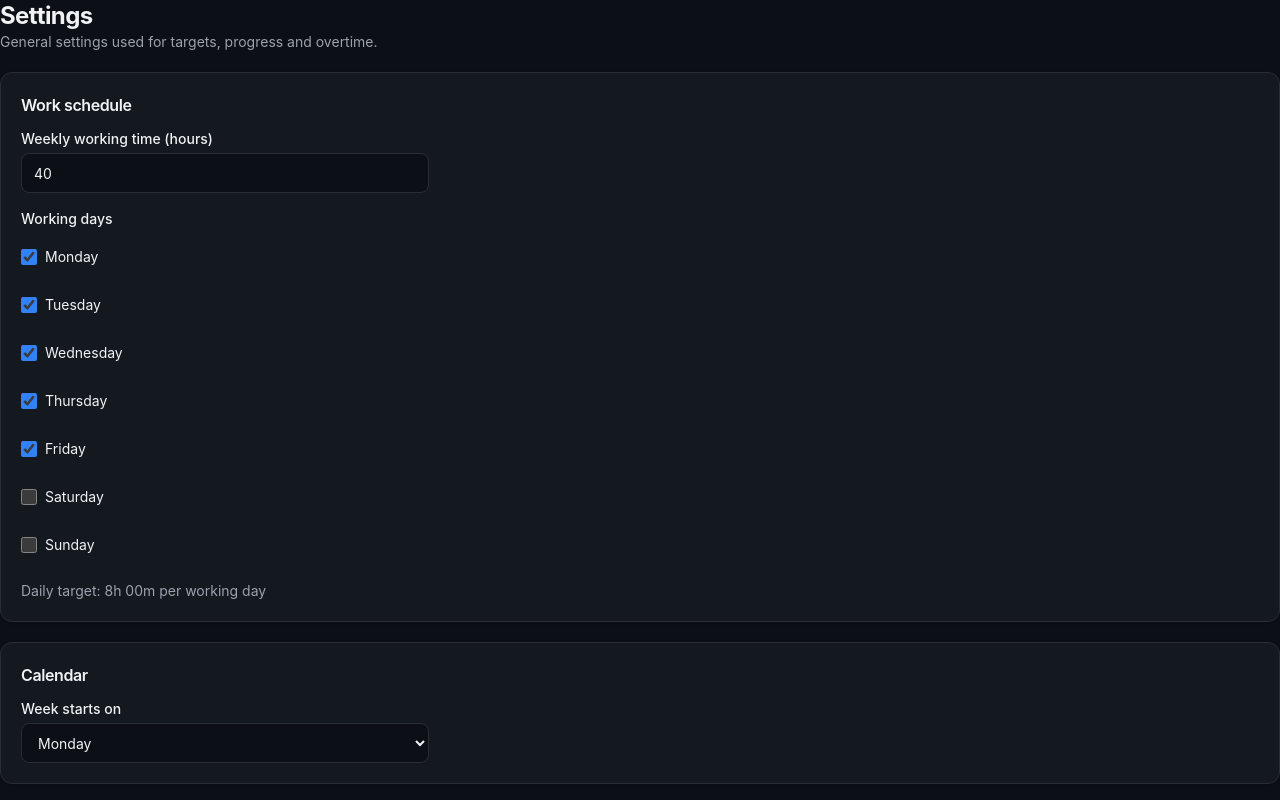
Scenario: SettingsPage › shows error when all working days are unchecked
Expected: the heading "Work schedule" is shown, [21,93,132,117]
Click the checkbox labelled "Monday" at (29, 257), box [21,249,37,265]
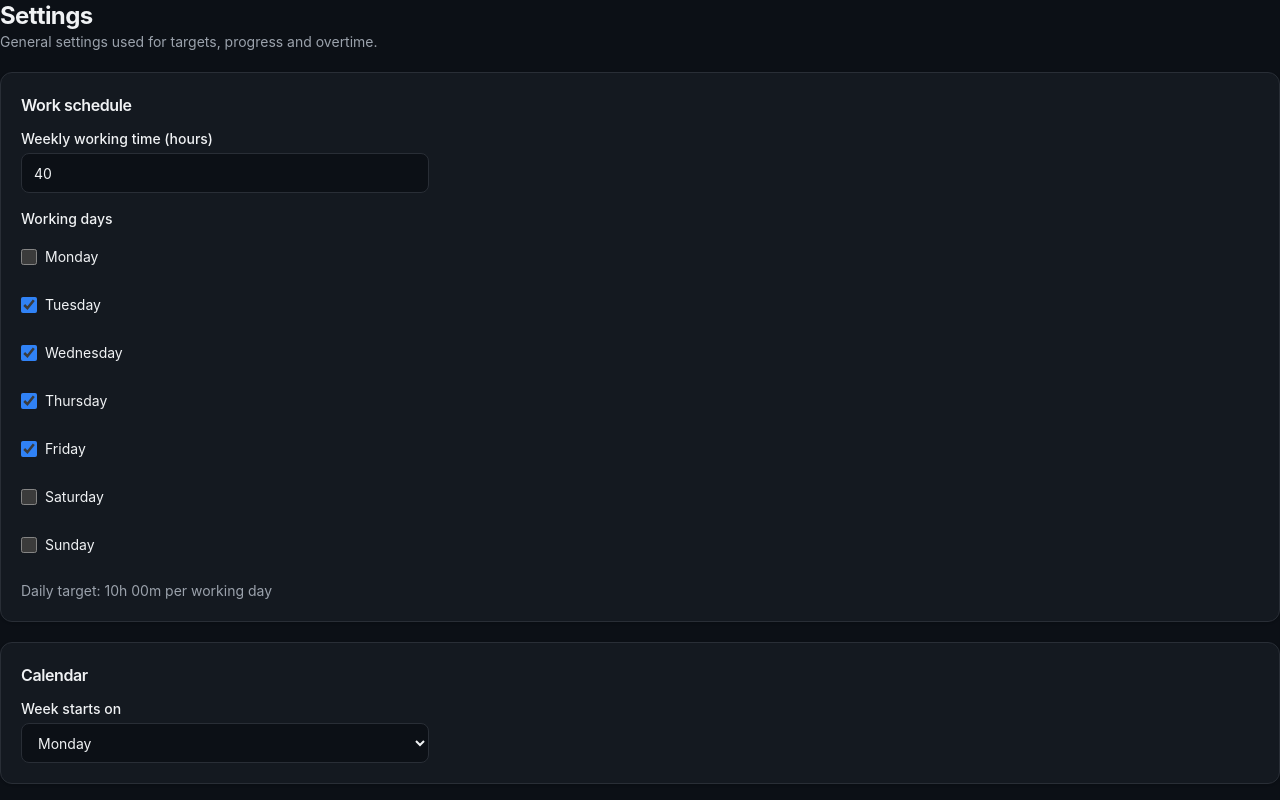
Click the checkbox labelled "Tuesday" at (29, 305), box [21,297,37,313]
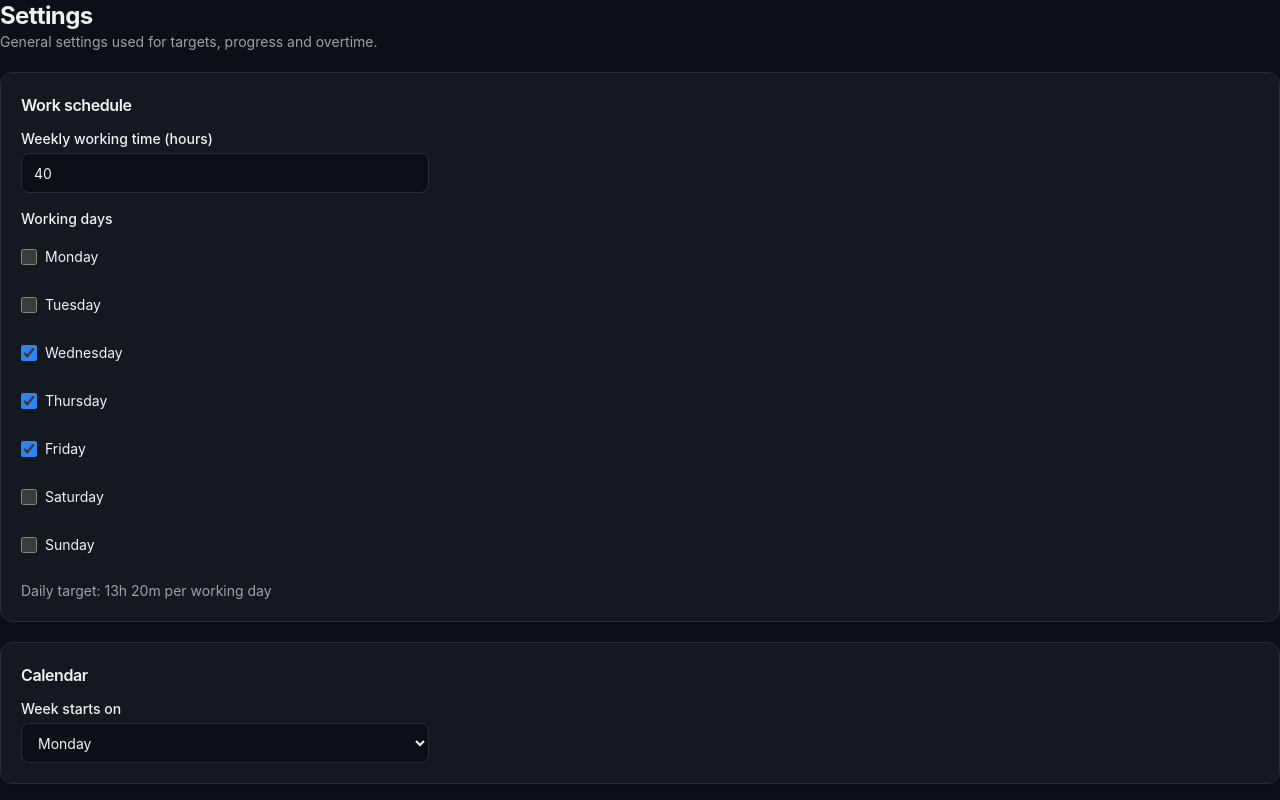
Click the checkbox labelled "Wednesday" at (29, 353), box [21,345,37,361]
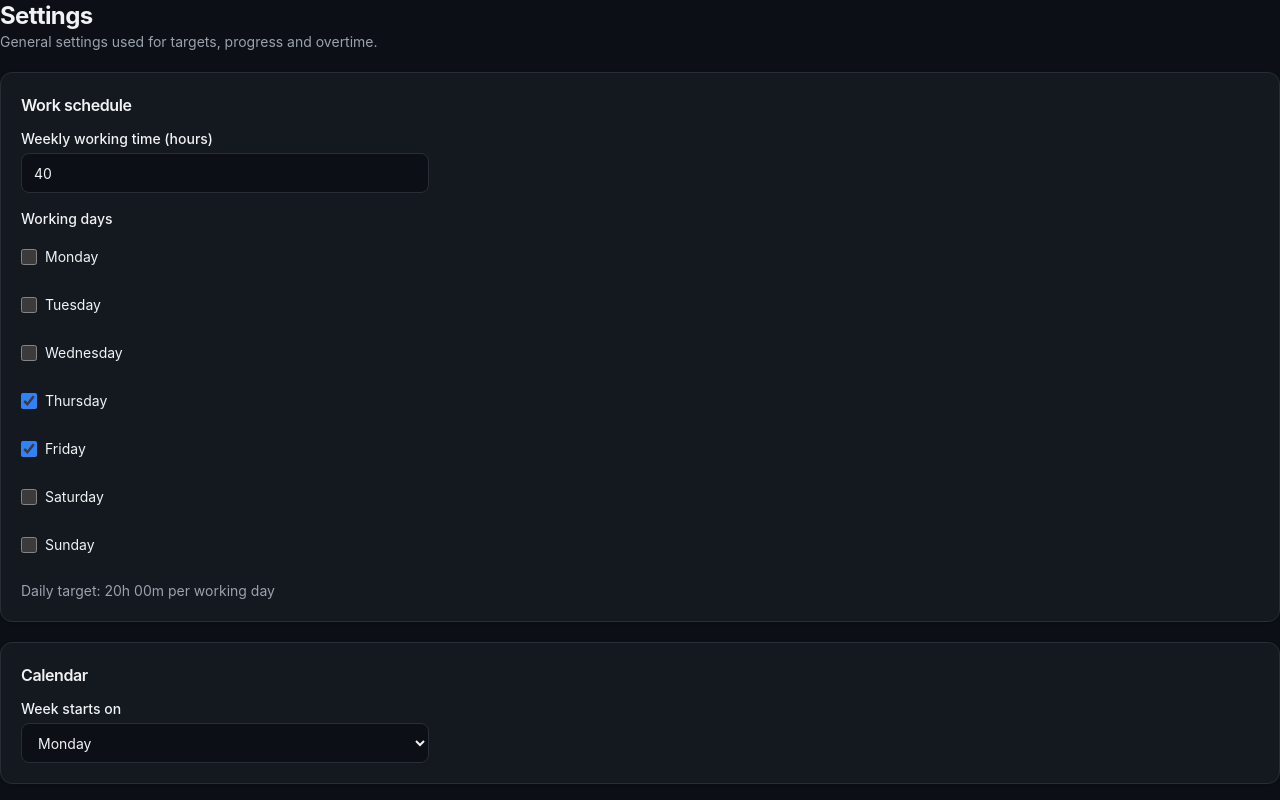
Click the checkbox labelled "Thursday" at (29, 401), box [21,393,37,409]
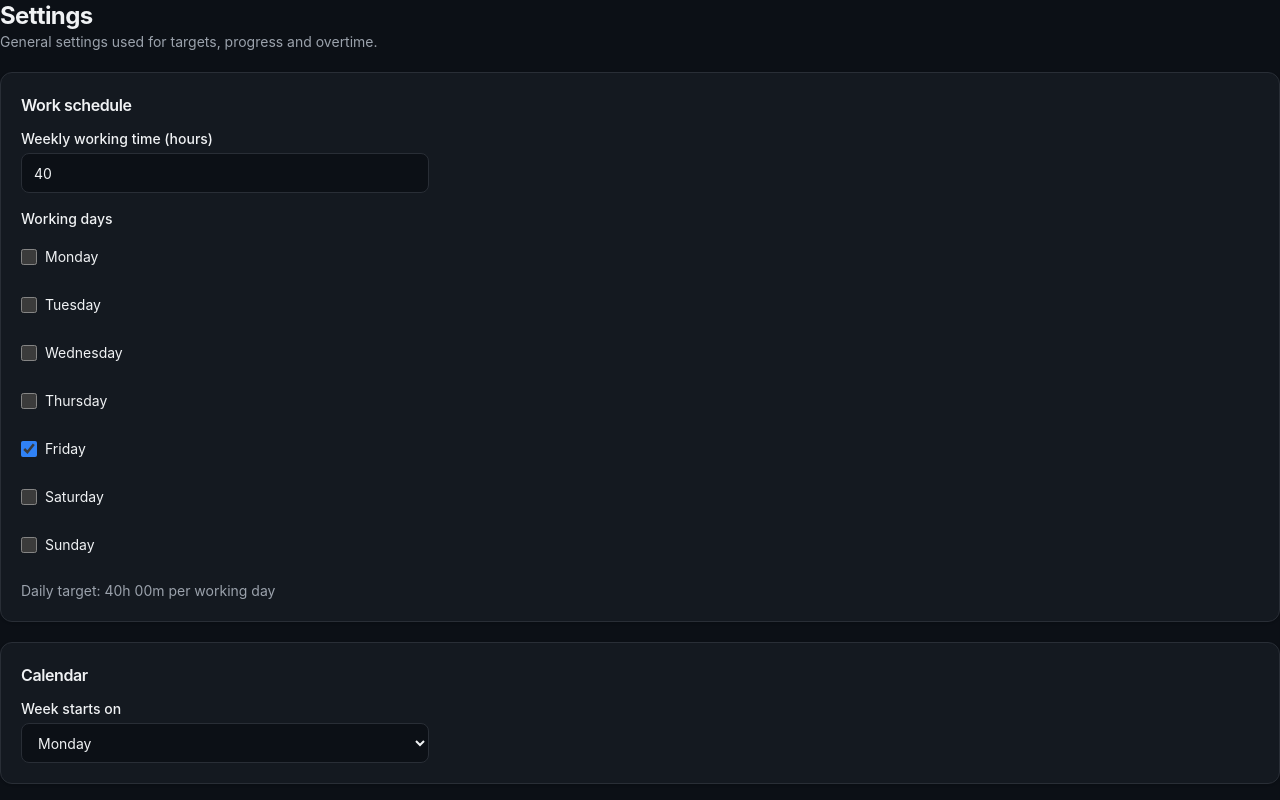
Click the checkbox labelled "Friday" at (29, 449), box [21,441,37,457]
(page scrolled)
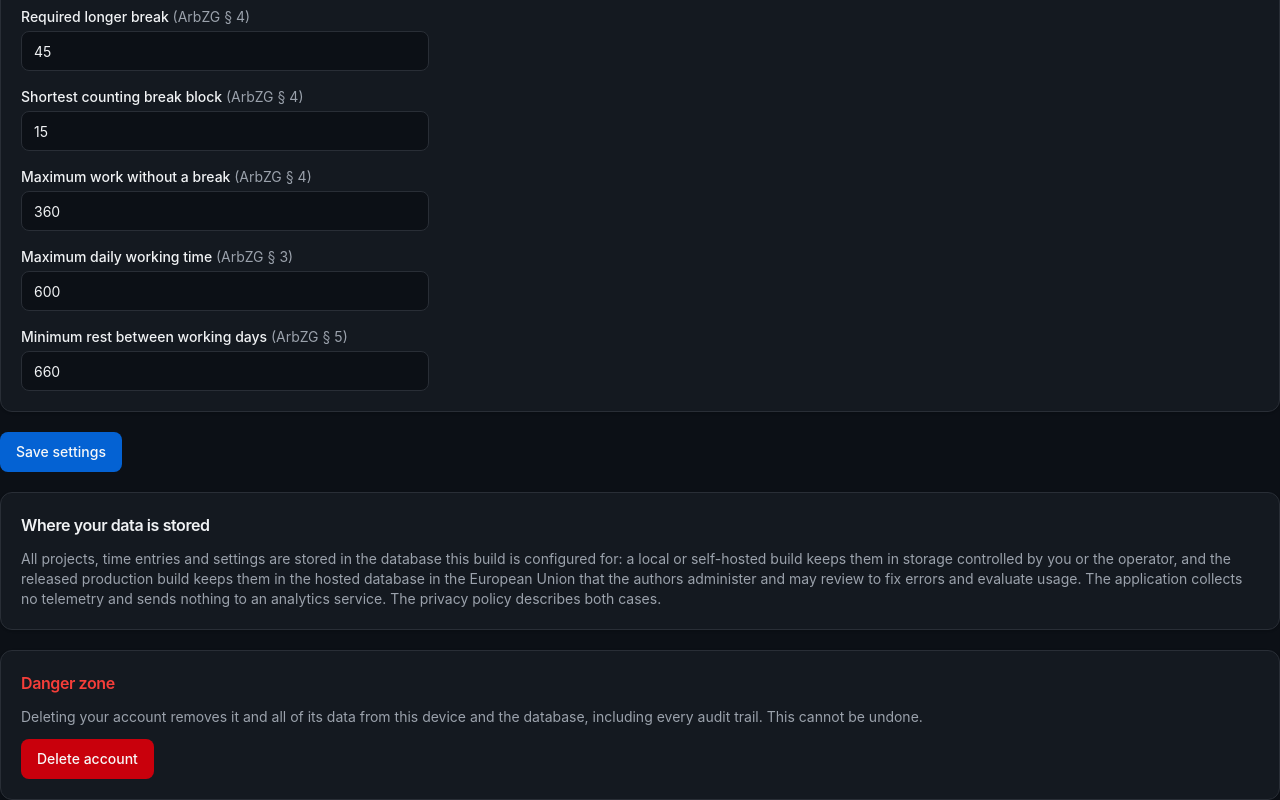
Click the button "Save settings" at (61, 452), box [0,432,122,472]
(page scrolled)
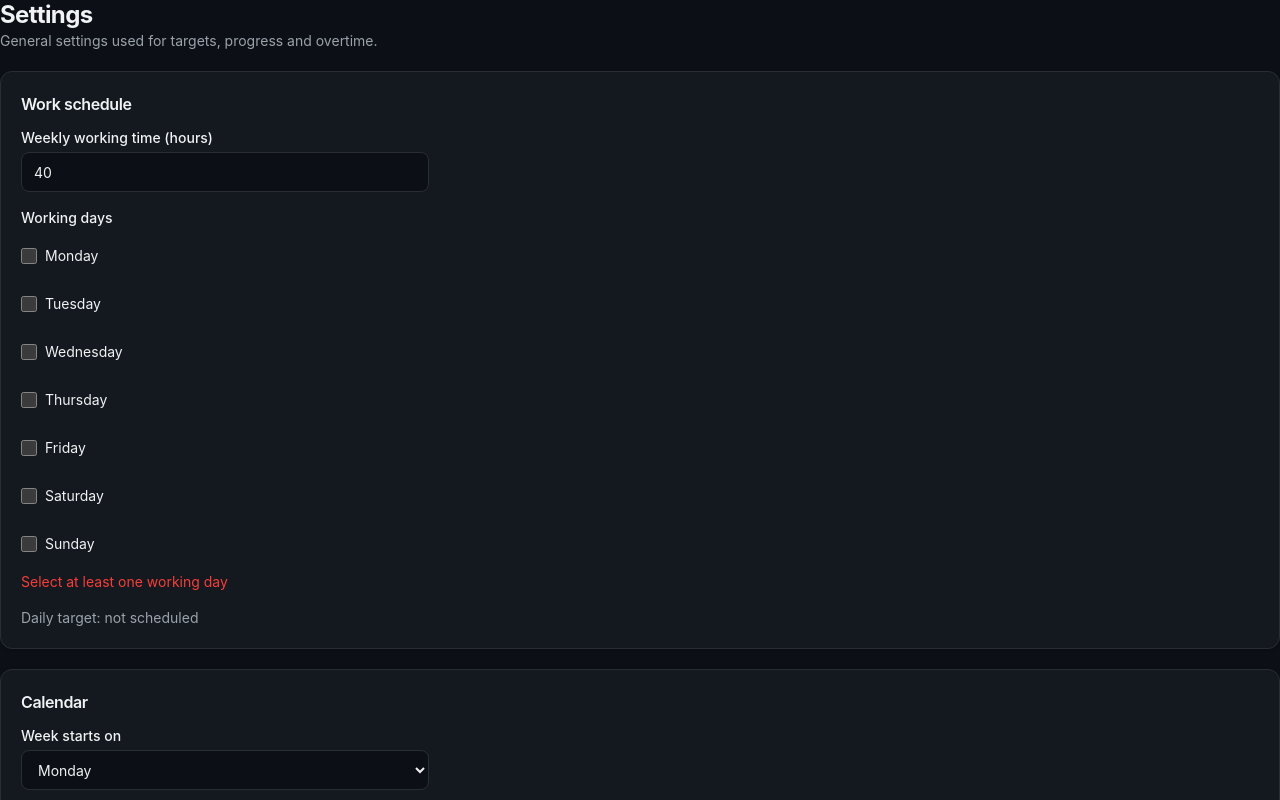
Now the message shows "at least one working day", box [21,573,228,590]
